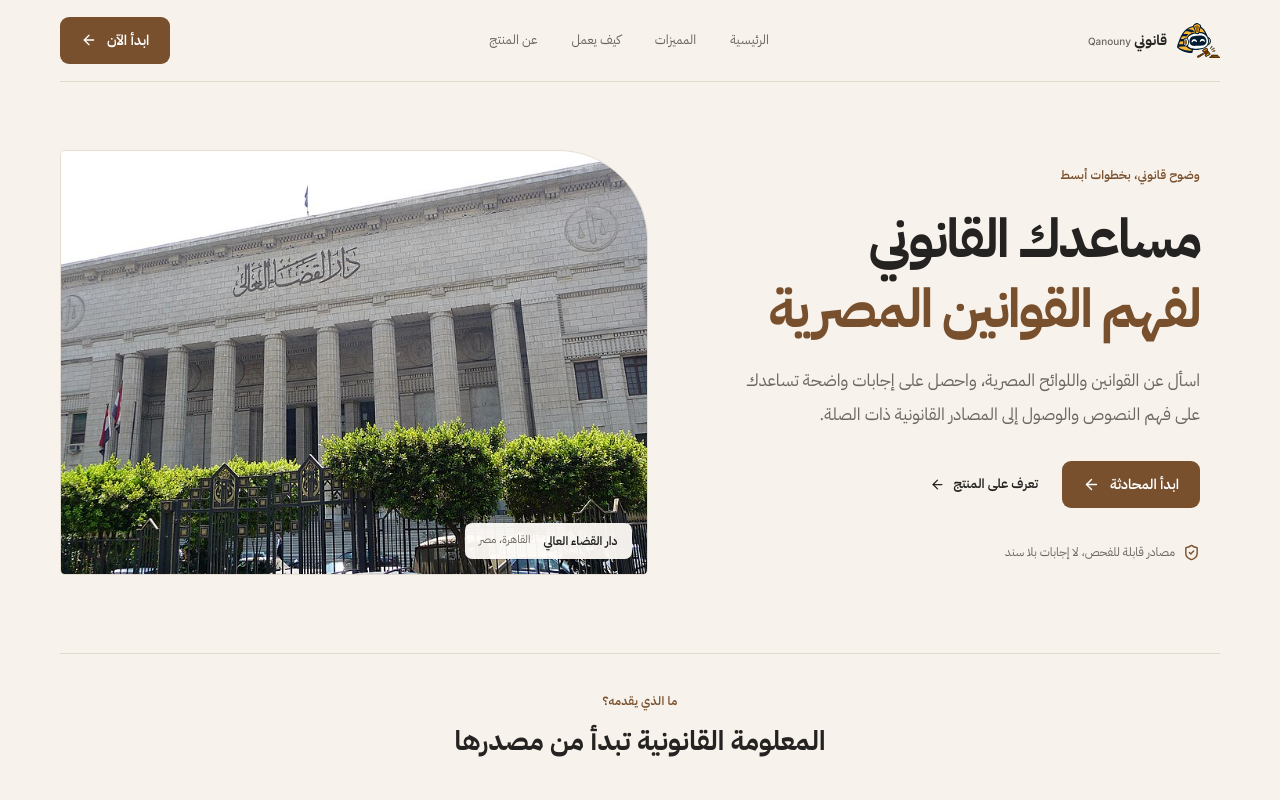
it: Legal assistant frontend › sends a question to the API and renders its grounded response
Step 1. Click the button "ابدأ الآن" → (115, 40), box left=60, top=17, right=170, bottom=64
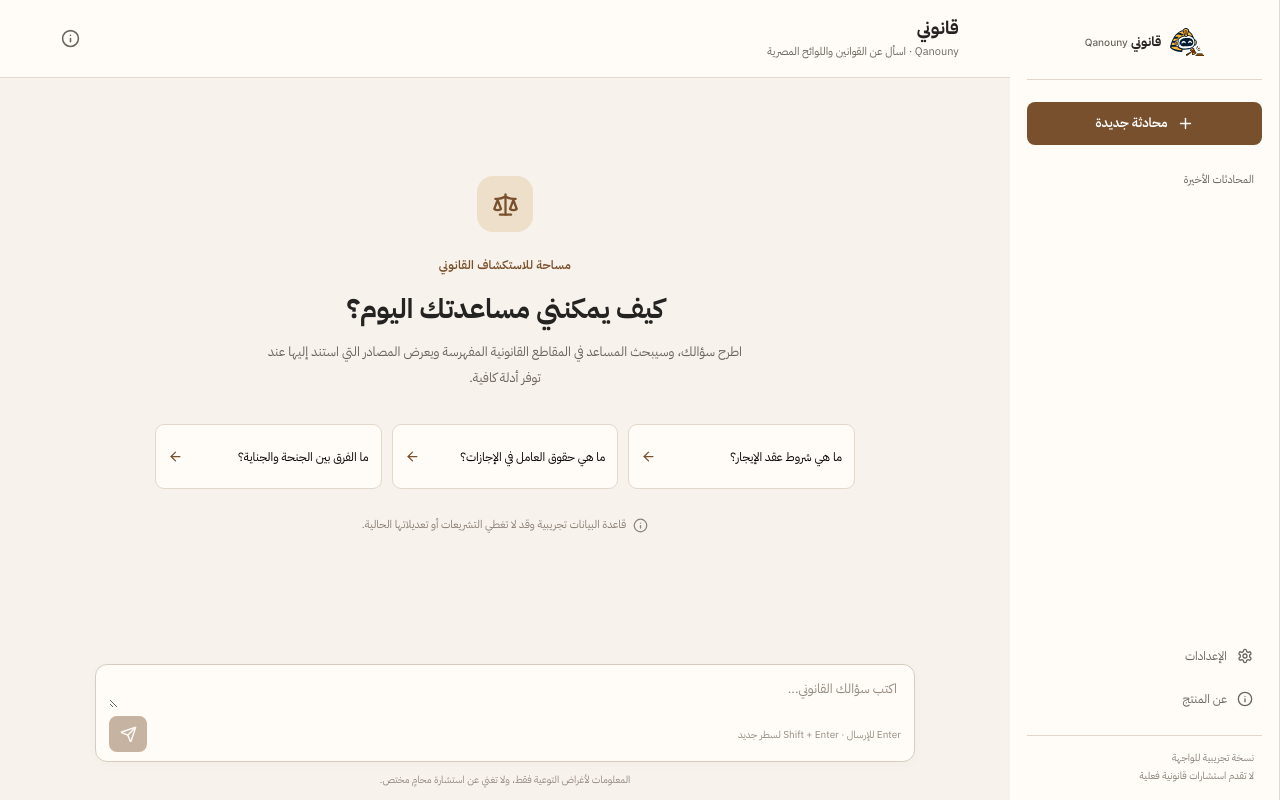
Step 2. Type "ما هي شروط عقد الإيجار؟" into the text box labelled "اكتب سؤالك القانوني" → (505, 692), box left=109, top=676, right=901, bottom=708
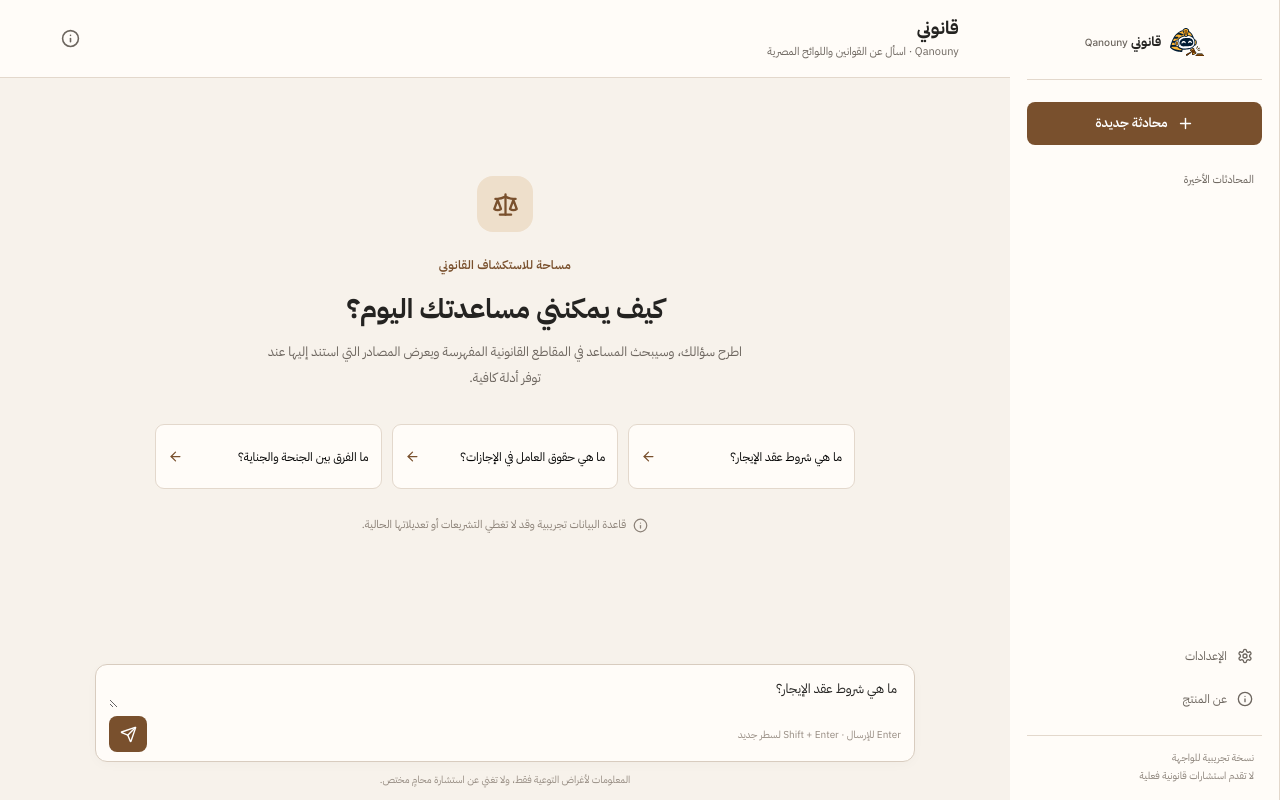
Step 3. Click the button named "إرسال السؤال" → (128, 734), box left=109, top=716, right=147, bottom=752
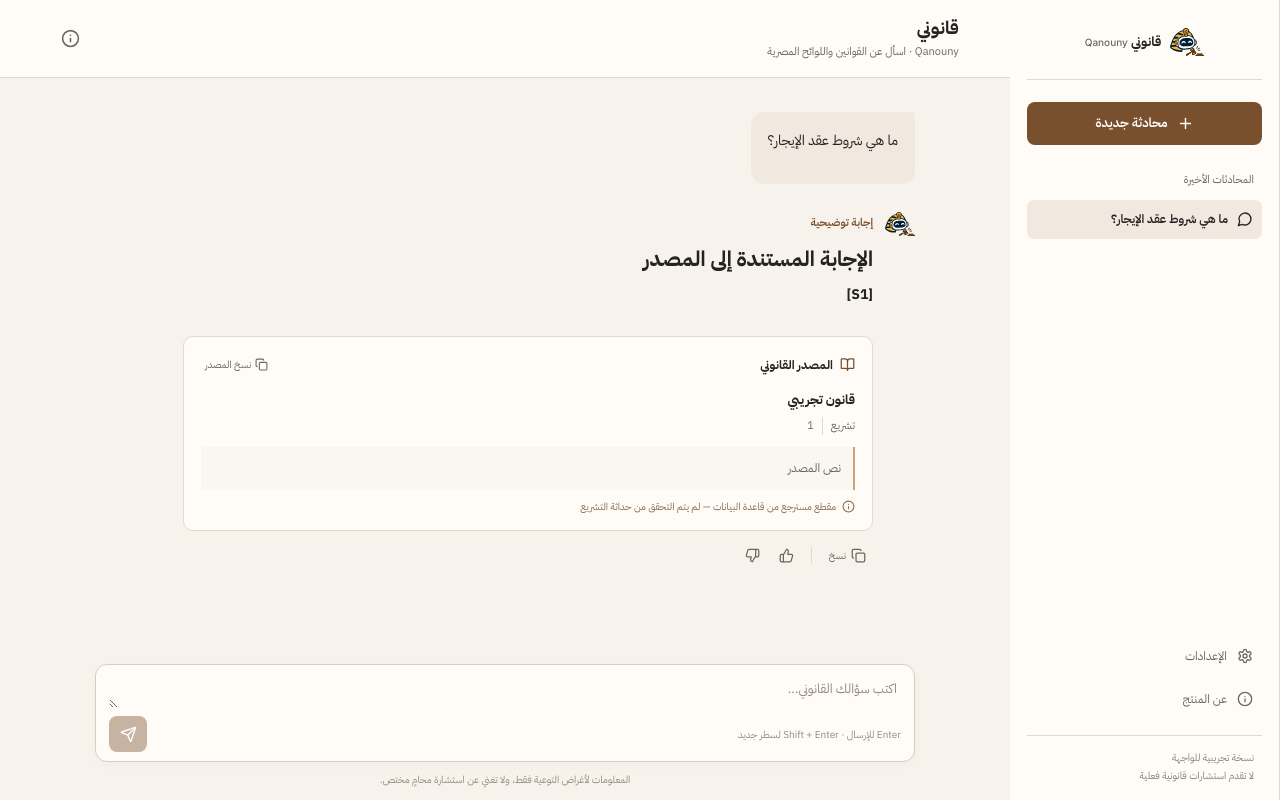
Now the text "ما هي شروط عقد الإيجار؟" below "المحادثات الأخيرة" is shown, box left=1111, top=210, right=1228, bottom=228
Now the heading "الإجابة المستندة إلى المصدر" is shown, box left=643, top=243, right=873, bottom=275
Now the text "[S1]" is shown, box left=846, top=284, right=873, bottom=305
